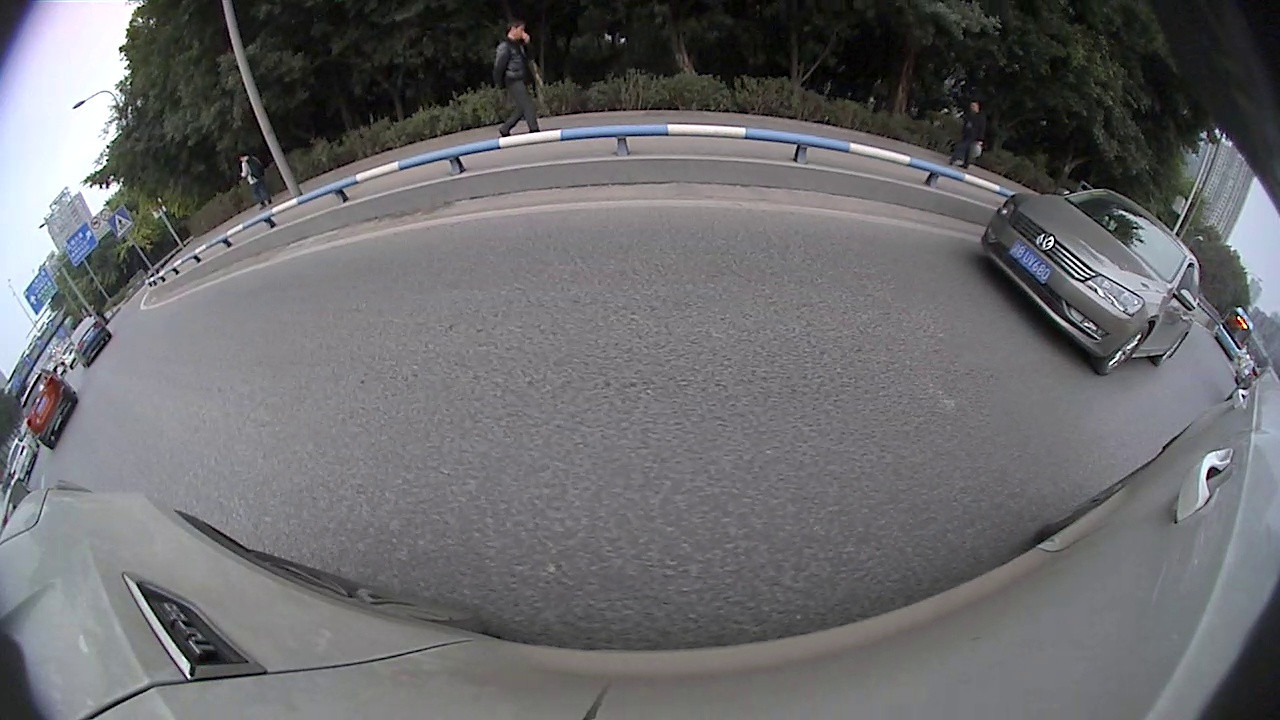bus: (1213, 306, 1256, 364)
car: (980, 188, 1203, 378), (18, 368, 78, 450), (68, 314, 113, 368), (0, 471, 32, 531), (5, 430, 41, 483), (1230, 363, 1278, 397), (57, 343, 78, 366)
front: (1091, 316, 1153, 381)
person: (498, 18, 534, 132), (242, 147, 264, 214), (966, 101, 982, 163)
rear: (1151, 330, 1189, 370)
